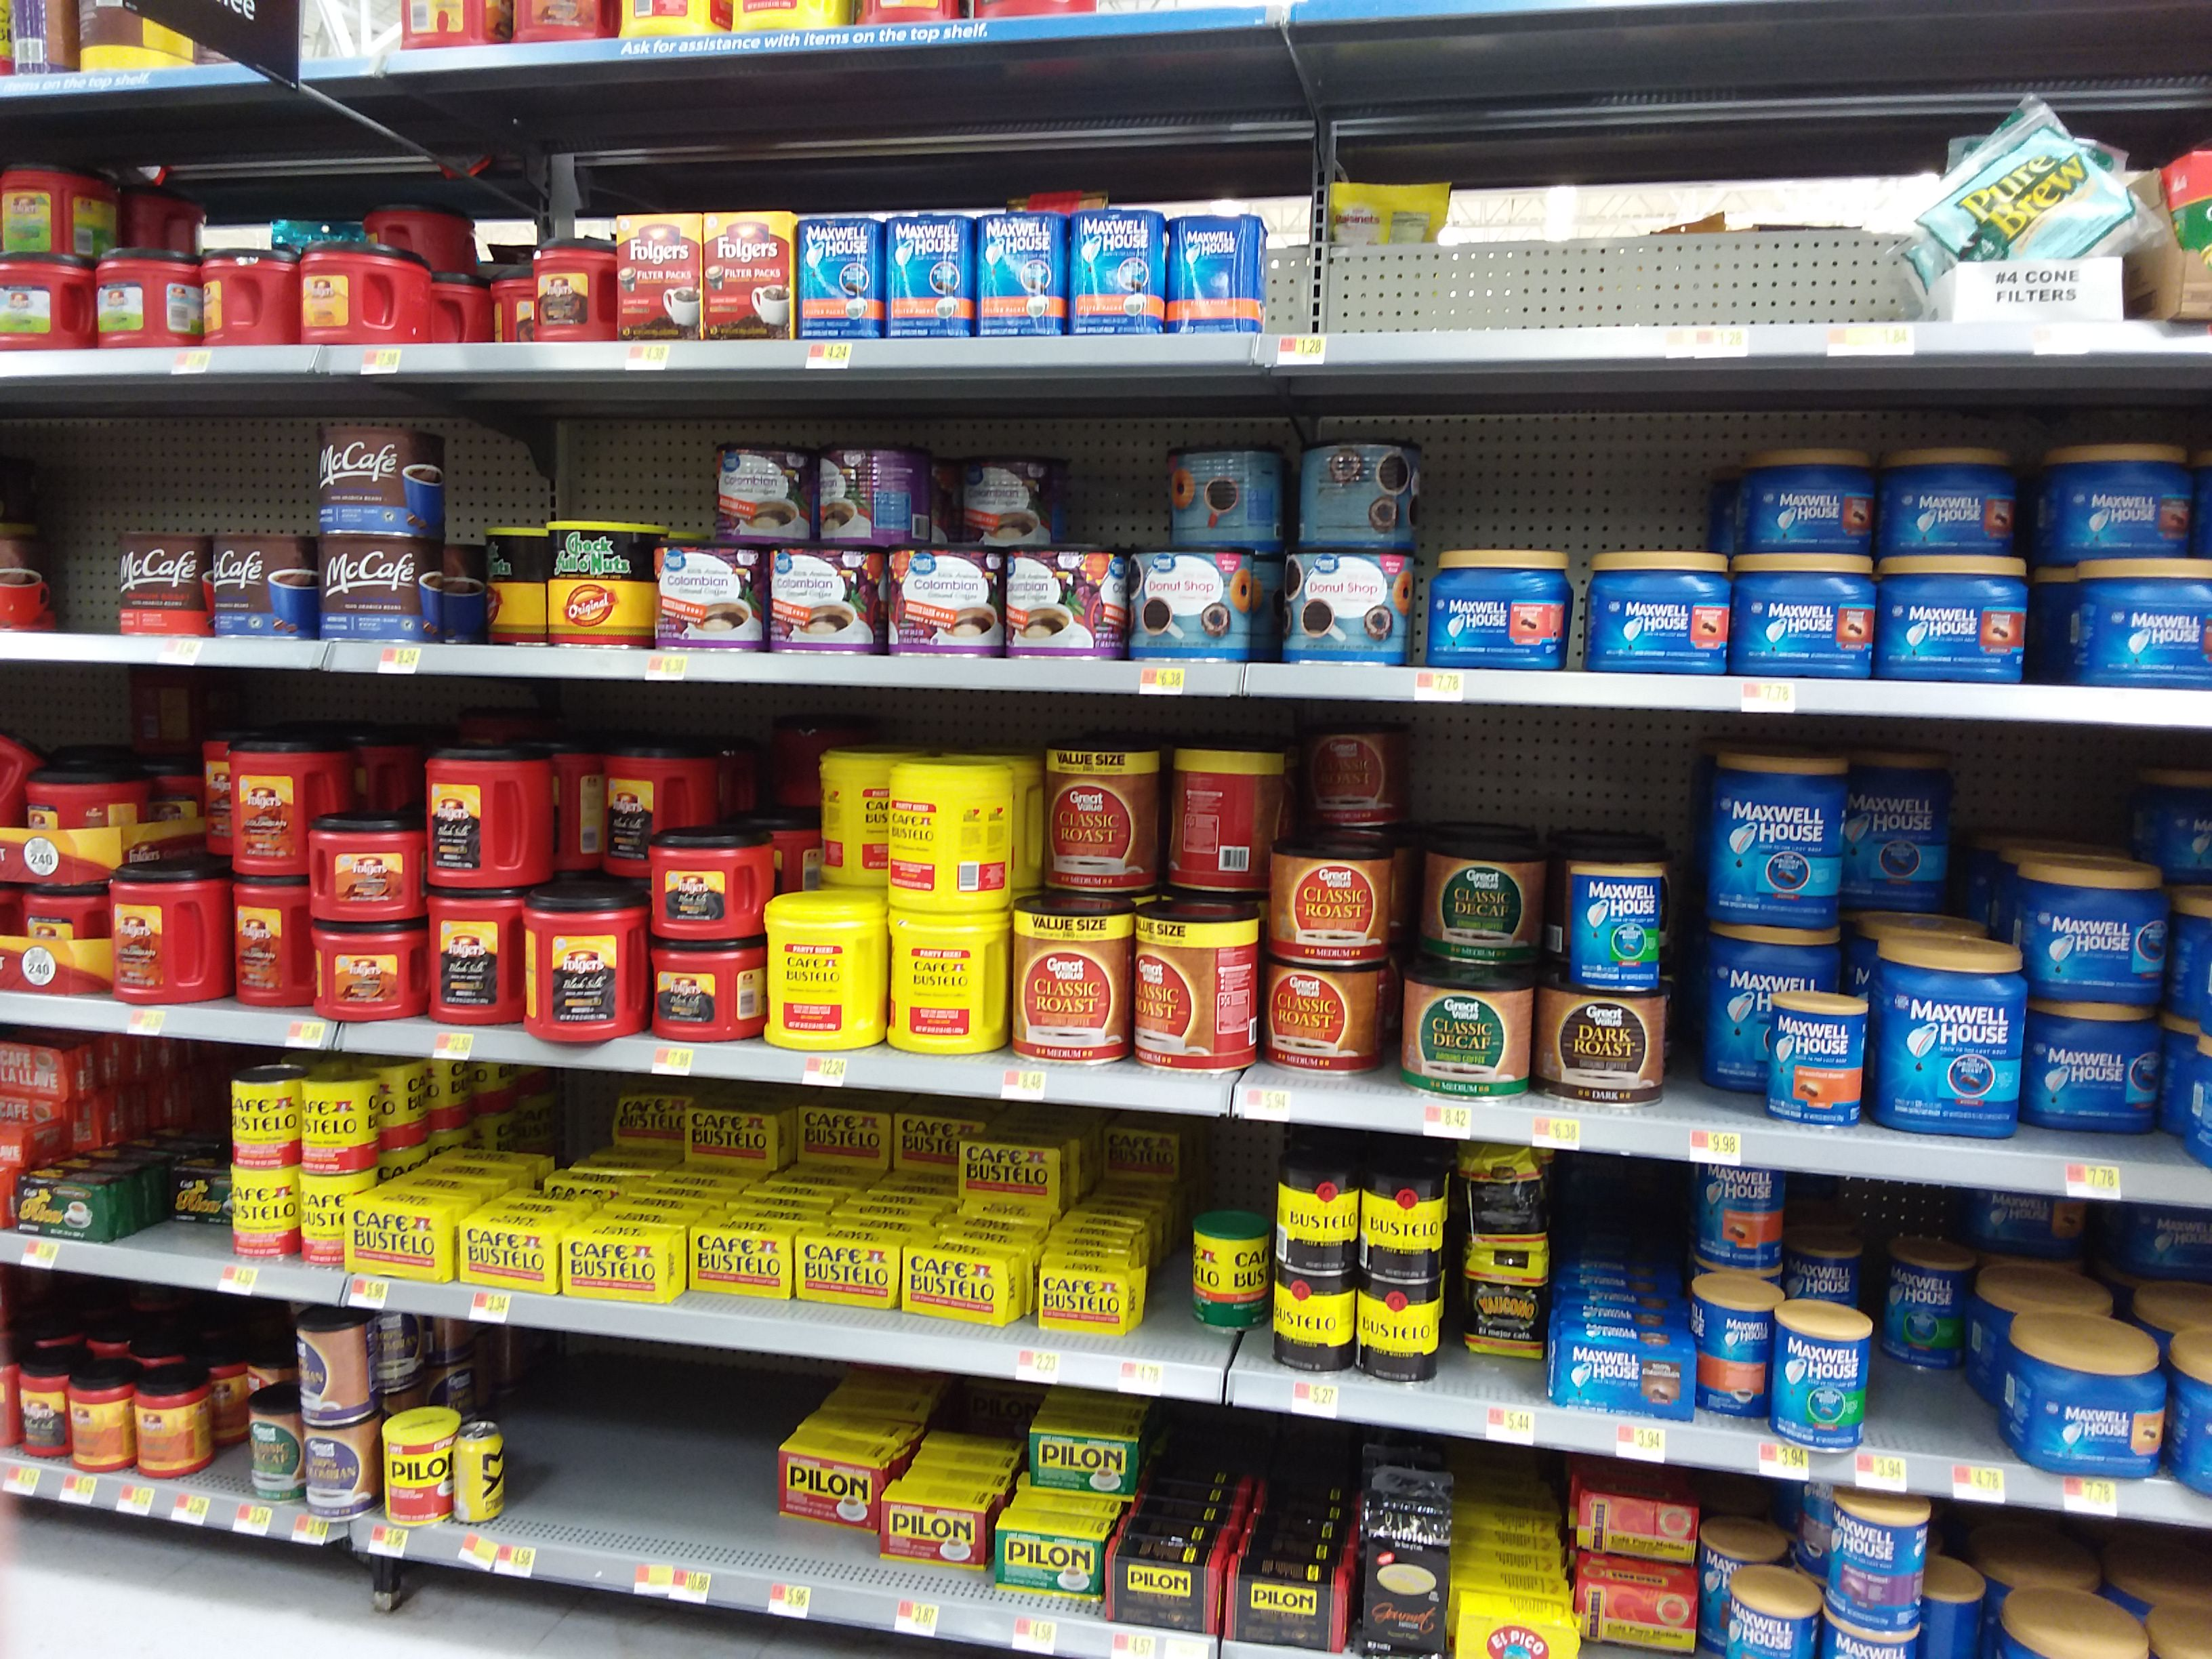product: (1914, 112, 2163, 268), (2001, 1314, 2170, 1480), (1874, 938, 2012, 1133), (1705, 748, 1841, 924), (1134, 903, 1258, 1073), (1010, 896, 1130, 1070), (2050, 561, 2212, 690), (2012, 859, 2161, 995), (2033, 439, 2195, 559), (1878, 556, 2027, 685), (883, 762, 1010, 913), (1426, 545, 1573, 674), (1040, 739, 1163, 890), (2024, 999, 2161, 1134), (1583, 547, 1730, 674), (1413, 835, 1550, 969), (526, 890, 644, 1042), (765, 896, 881, 1049), (1357, 1459, 1447, 1654), (428, 746, 552, 887), (1400, 971, 1533, 1101), (1731, 559, 1874, 680), (1848, 746, 1951, 910), (1730, 446, 1878, 558), (1271, 838, 1397, 967), (1773, 1293, 1871, 1457), (1879, 446, 2019, 556), (1167, 742, 1268, 890), (1299, 441, 1426, 558), (111, 868, 223, 1000), (1824, 1493, 1925, 1638), (545, 518, 657, 648), (1280, 558, 1416, 664), (1536, 997, 1663, 1110), (320, 533, 449, 645), (1008, 549, 1134, 662), (1548, 1321, 1693, 1419), (319, 423, 444, 533), (1132, 552, 1252, 666), (1766, 993, 1865, 1129), (430, 887, 528, 1025), (770, 545, 890, 657), (1160, 446, 1289, 547), (310, 814, 428, 924), (1261, 969, 1379, 1079), (641, 835, 765, 939), (305, 249, 435, 345), (892, 549, 1007, 657), (1569, 864, 1663, 995), (657, 545, 772, 652), (1165, 213, 1268, 331), (1360, 1145, 1451, 1279), (644, 941, 763, 1042), (704, 213, 796, 342), (212, 532, 320, 641), (1224, 1560, 1348, 1656), (308, 924, 430, 1019), (1069, 211, 1163, 335), (819, 444, 934, 545), (617, 213, 705, 342), (1298, 725, 1413, 824), (1693, 1270, 1768, 1422), (1273, 1147, 1360, 1274), (979, 214, 1068, 338), (887, 214, 975, 336), (1881, 1241, 1965, 1370), (26, 762, 131, 864), (712, 443, 817, 545), (2, 157, 113, 253), (228, 875, 308, 1007), (1106, 1546, 1223, 1636), (1454, 1138, 1550, 1248), (14, 890, 110, 999), (798, 218, 885, 336), (1585, 1568, 1705, 1654), (118, 530, 212, 638), (301, 1307, 383, 1431), (228, 741, 307, 870), (944, 453, 1057, 542), (96, 251, 202, 343), (202, 251, 305, 345), (1578, 1481, 1698, 1561), (1689, 1164, 1780, 1270), (601, 746, 723, 824), (1461, 1246, 1547, 1358), (1190, 1213, 1270, 1331), (1449, 1589, 1585, 1659), (900, 1244, 1014, 1326), (777, 1446, 880, 1535), (817, 751, 883, 889), (1355, 1279, 1440, 1385), (347, 1199, 453, 1284), (1710, 929, 1764, 1093), (0, 471, 54, 633), (531, 235, 615, 340), (993, 1527, 1106, 1603), (1970, 1187, 2088, 1260), (2, 256, 96, 347), (881, 1492, 988, 1572), (1723, 1572, 1820, 1659), (383, 1408, 453, 1530), (1028, 1427, 1139, 1502), (1271, 1276, 1355, 1375), (138, 1371, 212, 1481), (958, 1140, 1068, 1215), (794, 1232, 899, 1310), (688, 1225, 792, 1304), (1325, 178, 1446, 246), (301, 1070, 380, 1171), (482, 526, 545, 650), (561, 1236, 669, 1307), (2116, 1202, 2209, 1284), (9, 1176, 117, 1246), (301, 1432, 383, 1520), (71, 1364, 136, 1473), (1038, 1265, 1134, 1337), (460, 1223, 557, 1293), (796, 1101, 895, 1169), (115, 181, 211, 249), (14, 1347, 71, 1460), (232, 1166, 301, 1258), (249, 1387, 301, 1507), (686, 1105, 779, 1171), (233, 1072, 298, 1164), (2160, 772, 2212, 882), (455, 1419, 507, 1525), (362, 209, 477, 249), (437, 270, 498, 345), (1789, 1230, 1860, 1293), (301, 1173, 345, 1270), (380, 1060, 430, 1143), (895, 1114, 956, 1178), (617, 1093, 685, 1150), (174, 1164, 232, 1223), (430, 1060, 474, 1126)
